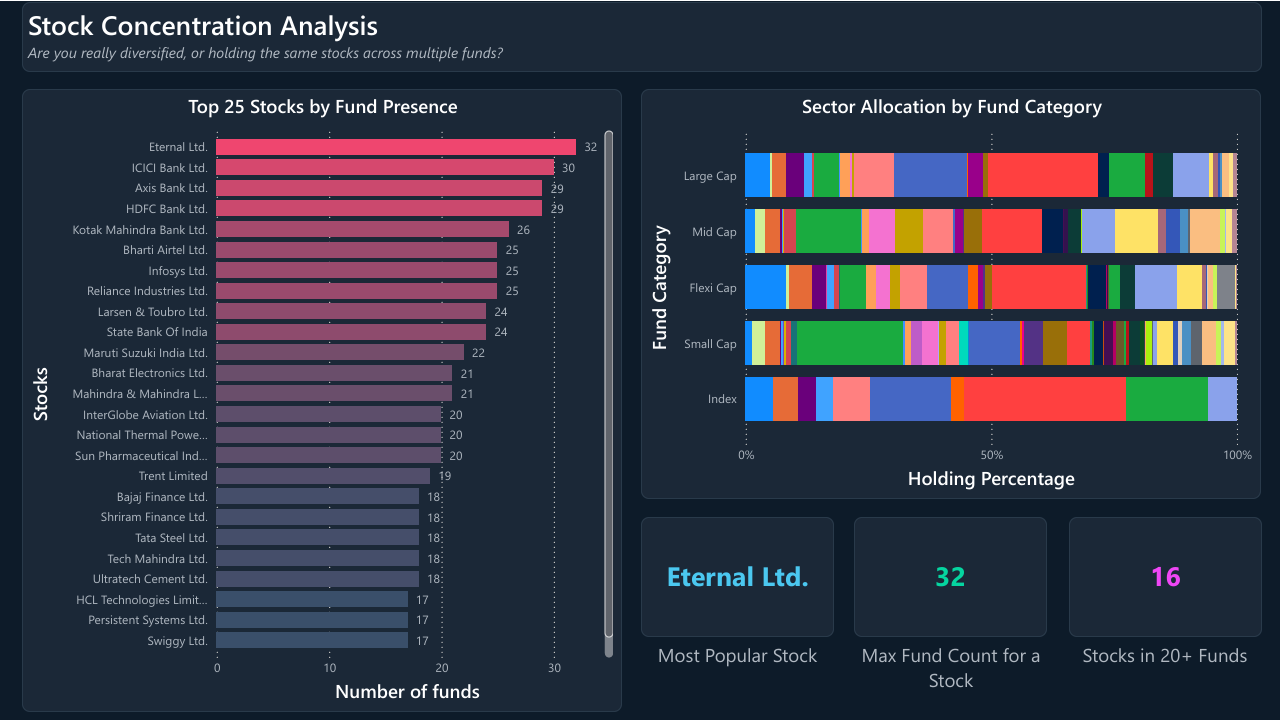

What the dashboard file says about the page in this screenshot:
{"tool":"powerbi","page":{"name":"Concentration","canvas":[1280,720],"ordinal":2},"visuals":[{"type":"textbox","box":[20.5,0,1240,70],"z":0},{"type":"clusteredBarChart","title":"Top 25 Stocks by Fund Presence","fields":{"Category":["mutual_fund_holdings_dashboard.stock_name"],"Y":["Count(mutual_fund_holdings_dashboard.fund_name)"]},"box":[21,87,600,623],"z":1000},{"type":"hundredPercentStackedBarChart","title":" Sector Allocation by Fund Category","fields":{"Category":["mutual_fund_holdings_dashboard.fund_category"],"Series":["mutual_fund_holdings_dashboard.sector"],"Y":["Sum(mutual_fund_holdings_dashboard.holding_pct)"]},"box":[640,87,620,410],"z":2000},{"type":"card","fields":{"Values":["mutual_fund_holdings_dashboard.Most Held Stock"]},"box":[640,515,192.5,120],"z":3000},{"type":"card","fields":{"Values":["mutual_fund_holdings_dashboard.Max Fund Presence"]},"box":[853,515,193,120],"z":4000},{"type":"card","fields":{"Values":["mutual_fund_holdings_dashboard.Stocks In 20Plus Funds"]},"box":[1067.5,515,193,120],"z":5000},{"type":"textbox","box":[640,635,192.5,37.5],"z":6000},{"type":"textbox","box":[853.8,635,192.5,65],"z":7000},{"type":"textbox","box":[1067.5,635,192.5,37.5],"z":8000}]}

Visuals, with their boxes in screenshot pixels (x1, y1, x2, y2), scaled from the page's 1280x720 canvas onto the 1280x720 screenshot:
textbox: x1=20, y1=0, x2=1260, y2=70
"Top 25 Stocks by Fund Presence" clusteredBarChart: x1=21, y1=87, x2=621, y2=710
" Sector Allocation by Fund Category" hundredPercentStackedBarChart: x1=640, y1=87, x2=1260, y2=497
card - mutual_fund_holdings_dashboard.Most Held Stock: x1=640, y1=515, x2=832, y2=635
card - mutual_fund_holdings_dashboard.Max Fund Presence: x1=853, y1=515, x2=1046, y2=635
card - mutual_fund_holdings_dashboard.Stocks In 20Plus Funds: x1=1068, y1=515, x2=1260, y2=635
textbox: x1=640, y1=635, x2=832, y2=672
textbox: x1=854, y1=635, x2=1046, y2=700
textbox: x1=1068, y1=635, x2=1260, y2=672
